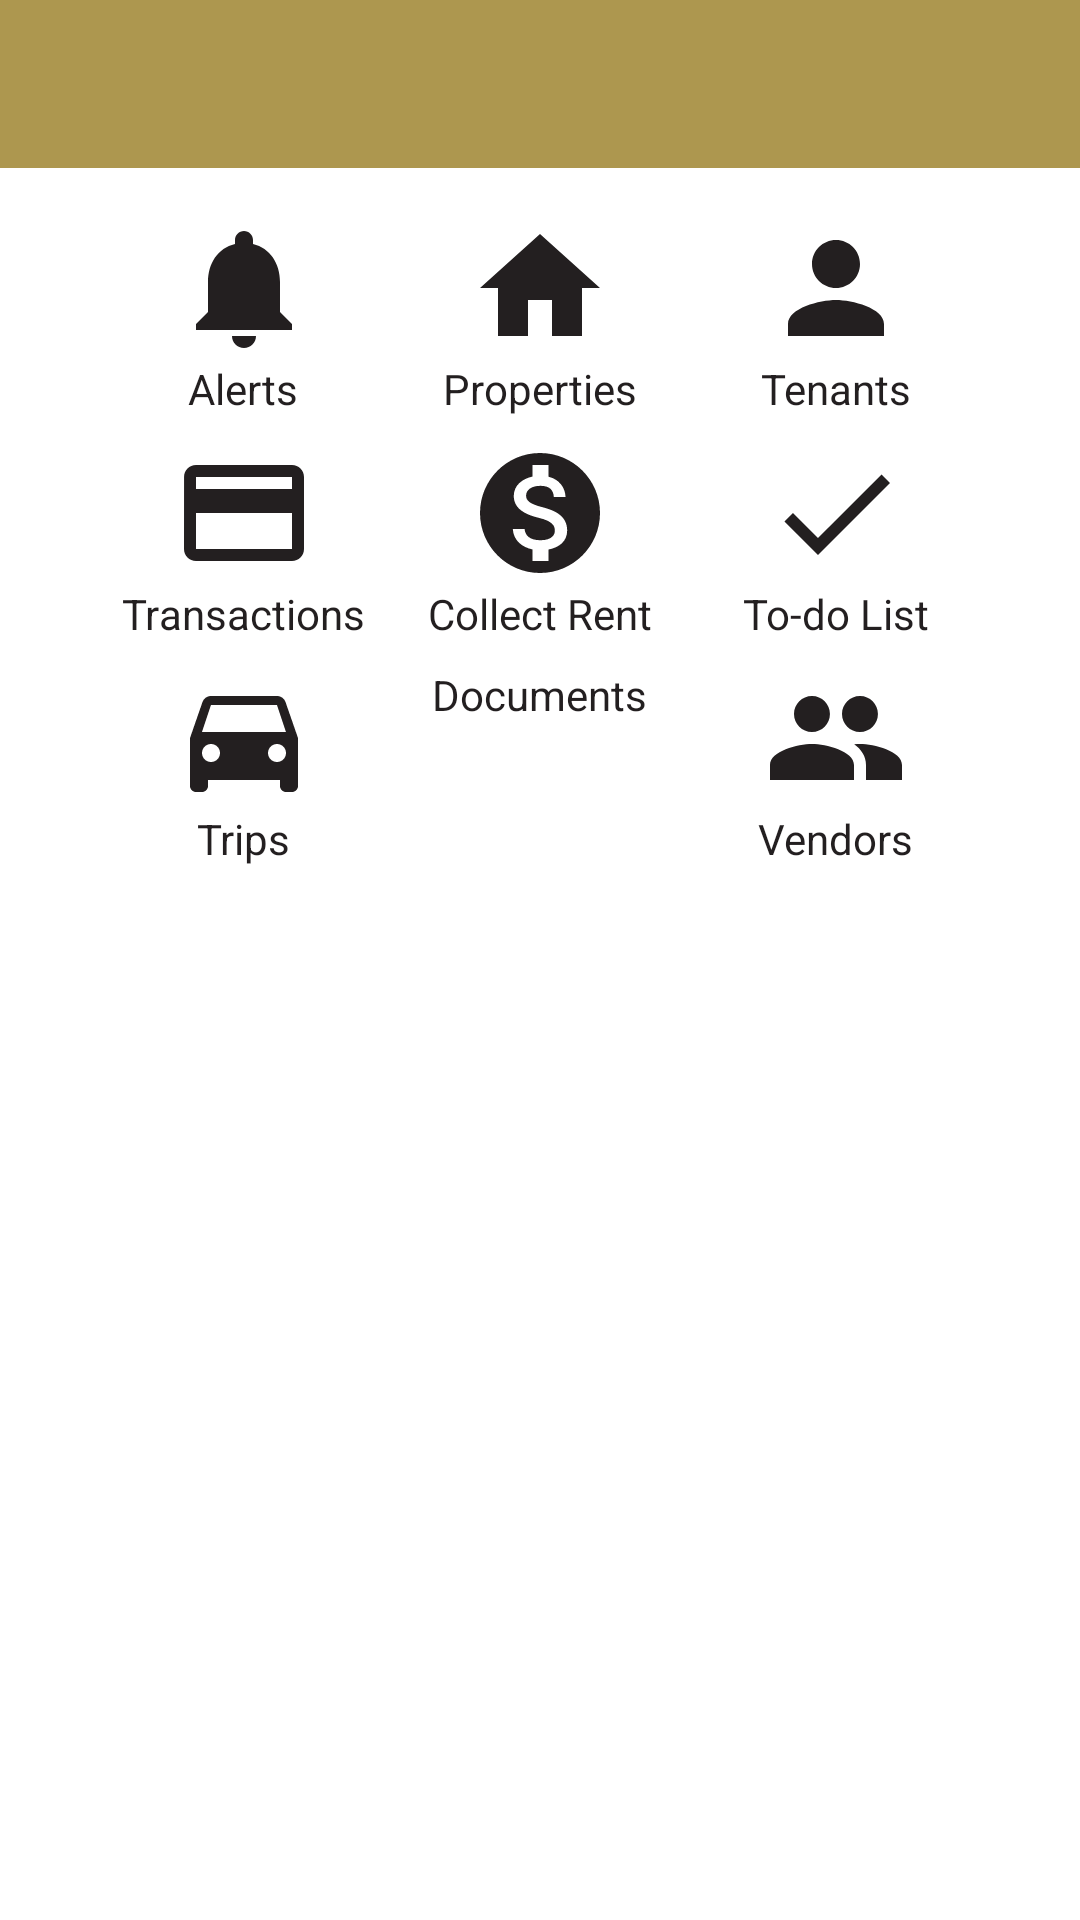

Icons on this 1080×1920 Android screen, each with the point to tap as point (x, y):
payments: point (244, 513)
